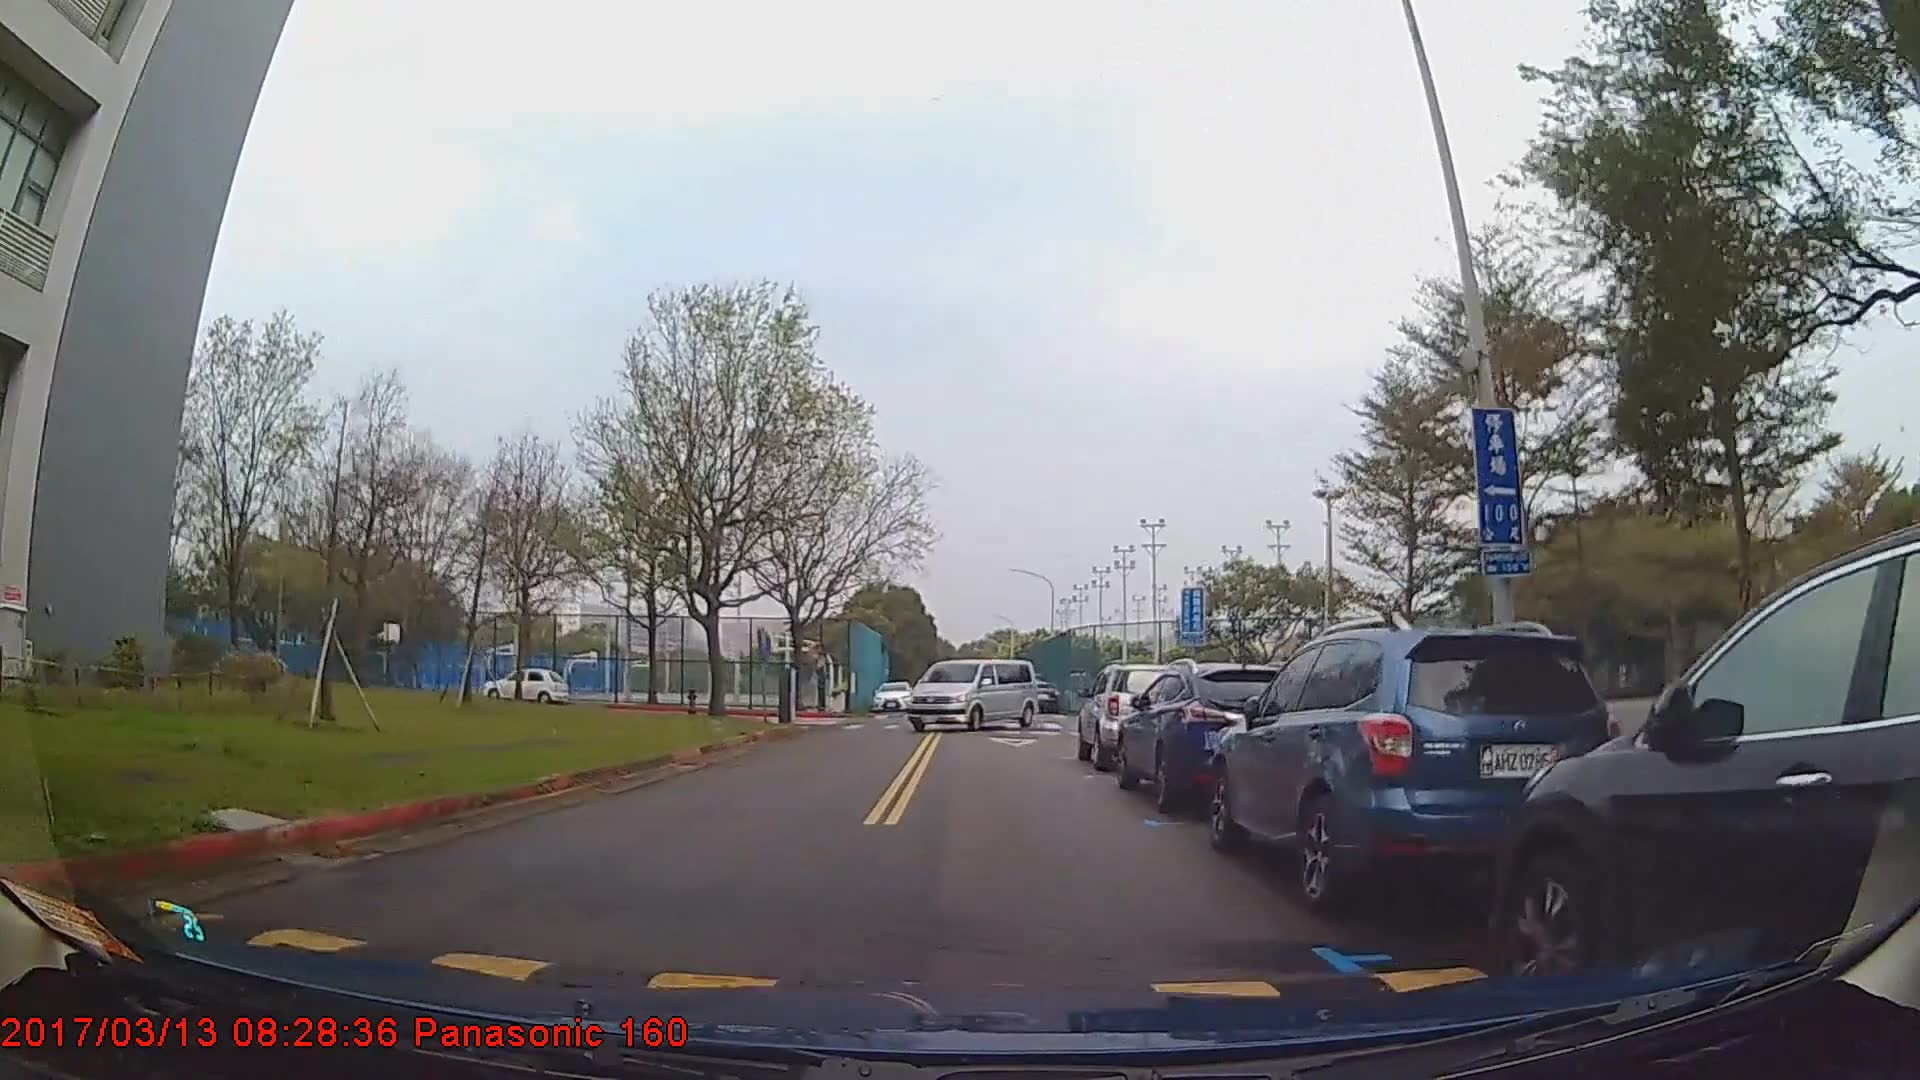vehicle: (1489, 525, 1920, 1013), (1203, 626, 1625, 911), (1114, 659, 1302, 812), (1077, 661, 1185, 769), (902, 655, 1038, 732), (487, 663, 568, 704), (1015, 679, 1062, 712), (872, 680, 913, 712)
